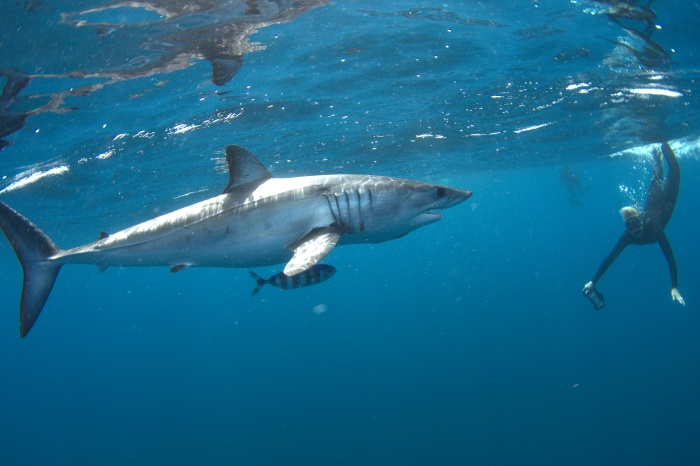Mako: (1, 136, 489, 350)
